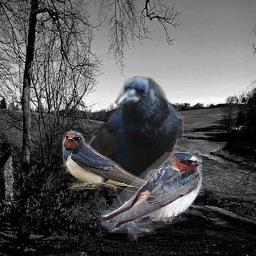Crow: (56, 69, 184, 243)
Swallow: (62, 130, 187, 205), (101, 152, 202, 233)
